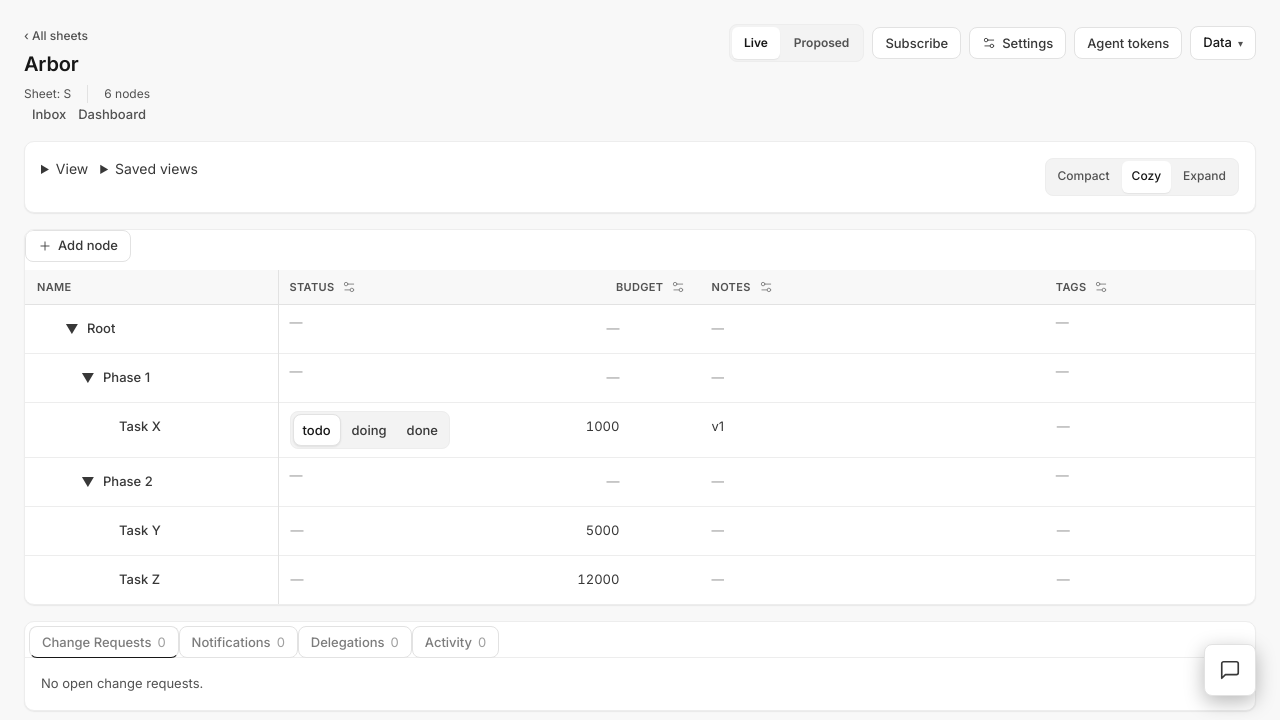
Test: SavedViewsMenu — applying › applying a view with no collapsed facet expands — a view is applied WHOLE
Expected: the table with test id "tree-table" is shown, x1=25 y1=270 x2=1255 y2=604
Click the heading "Saved views" at (157, 168), box x1=115 y1=160 x2=198 y2=176
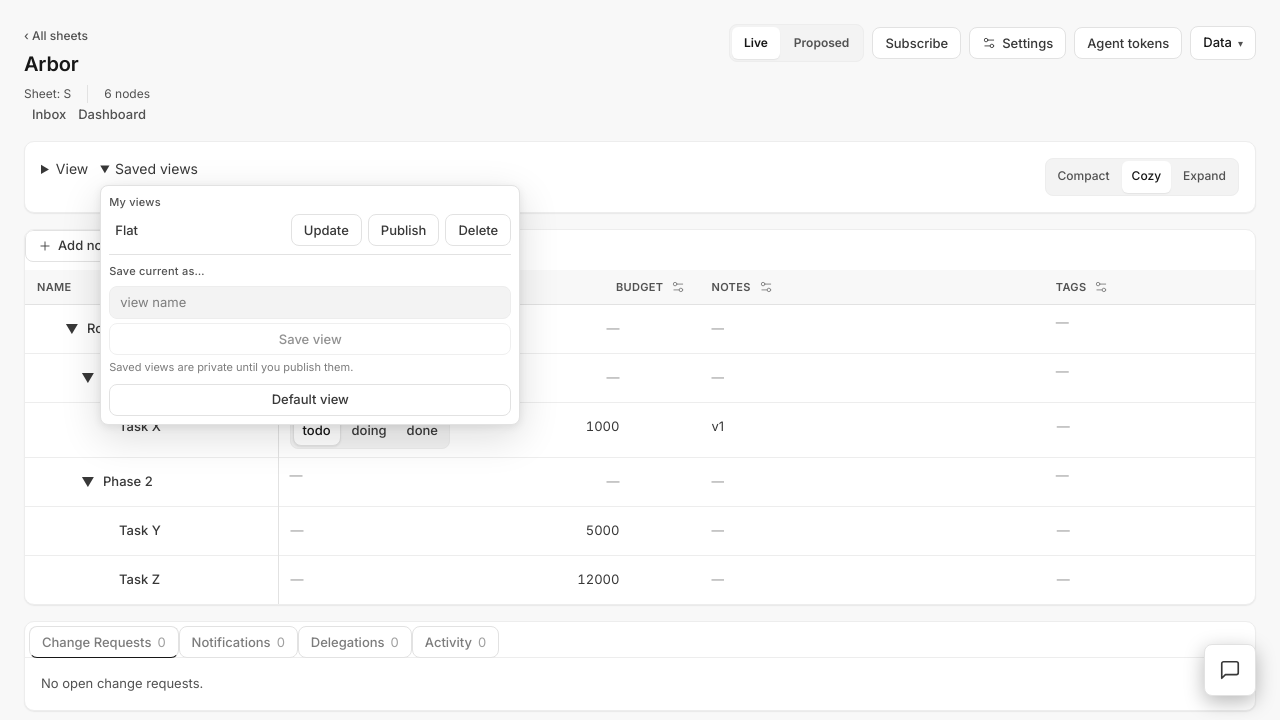
Click the button with test id "chevron-P2" at (88, 482), box x1=79 y1=466 x2=97 y2=498
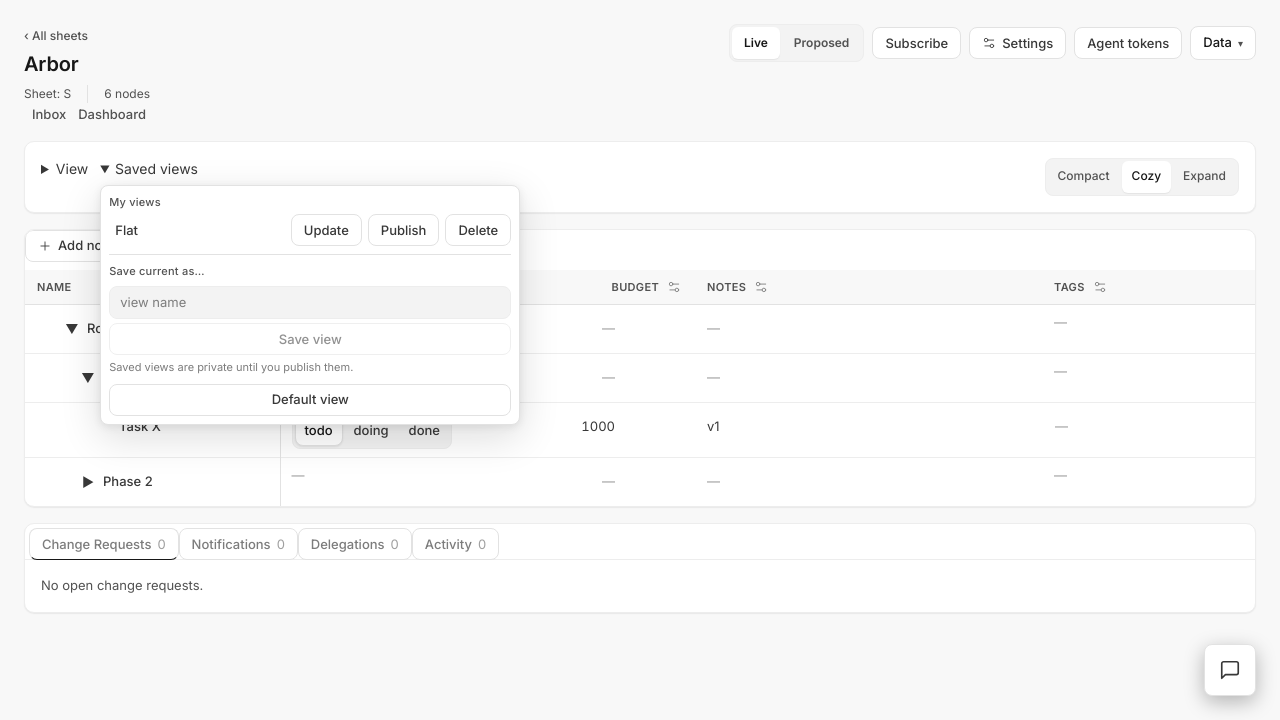
Result: the row with test id "row-Y" is gone
Click the button with test id "saved-view-apply-SV-1" at (197, 230), box x1=109 y1=216 x2=285 y2=244
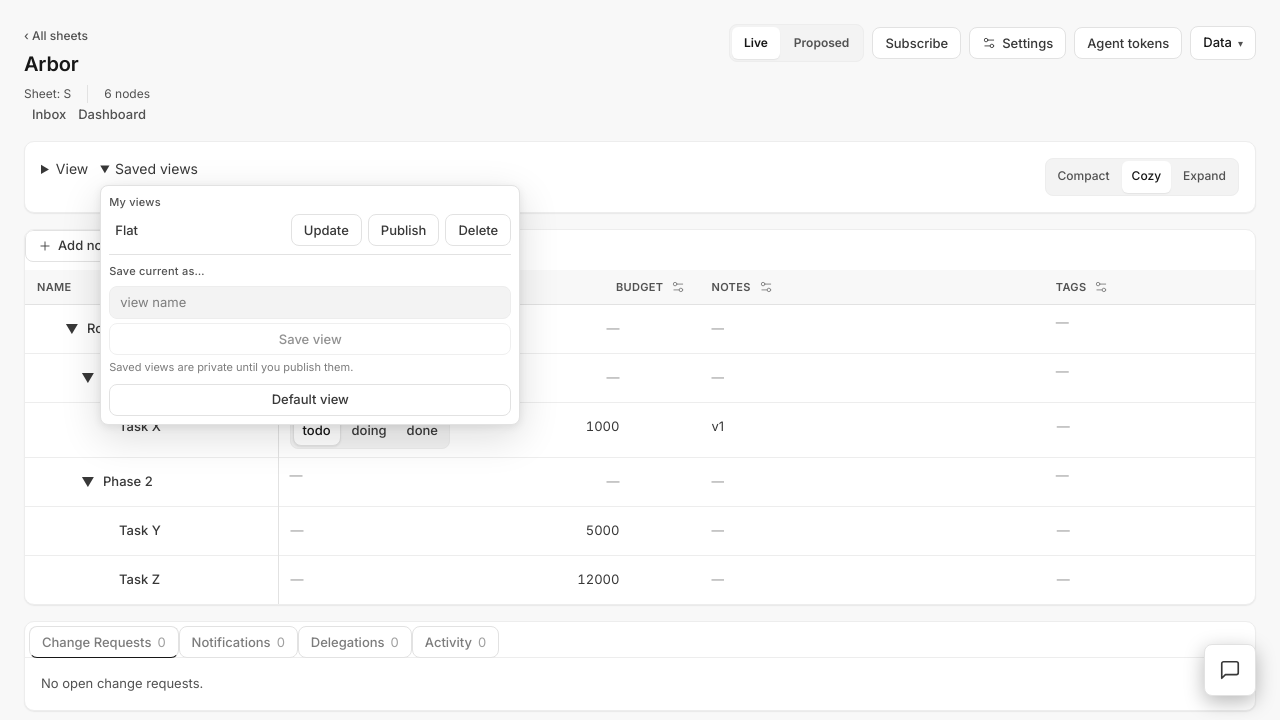
Result: the row with test id "row-Y" is shown at x1=25 y1=507 x2=1255 y2=556
